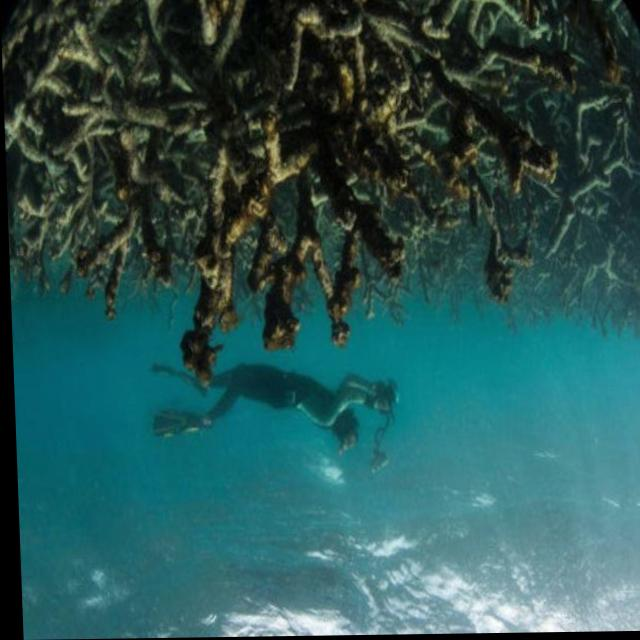Dead Coral: (6, 18, 631, 346)
